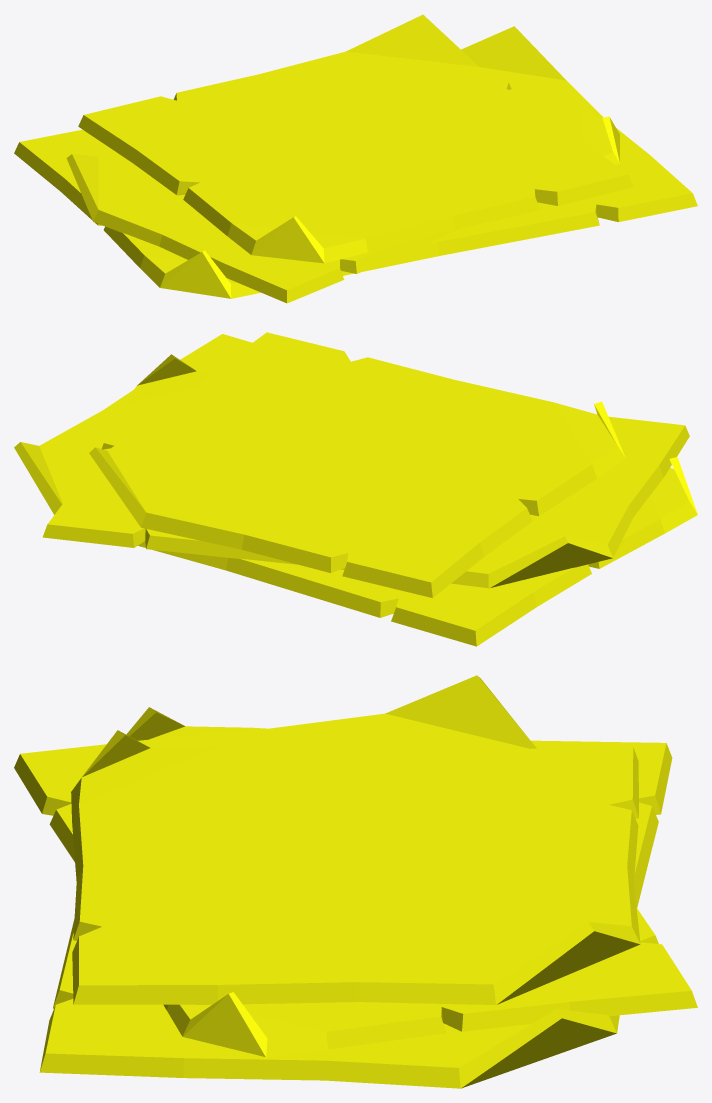
Rendered from kaykit-blueprint-stacked.glb.
The picture shows the model from 3 angles, top to bottom: view 1: azimuth 30°, elevation 25°; view 2: azimuth 150°, elevation 25°; view 3: azimuth 270°, elevation 25°; orthographic projection. The views are drawn at different scales.
Visible parts, largest first — view 1: blueprint_stacked; view 2: blueprint_stacked; view 3: blueprint_stacked.
Boxes of the visible parts, <box> form: blueprint_stacked: <box>14,14,697,303</box>; blueprint_stacked: <box>14,332,697,646</box>; blueprint_stacked: <box>14,675,697,1088</box>.
Size of the model in its own units: 2.12 by 0.2713 by 1.75.
